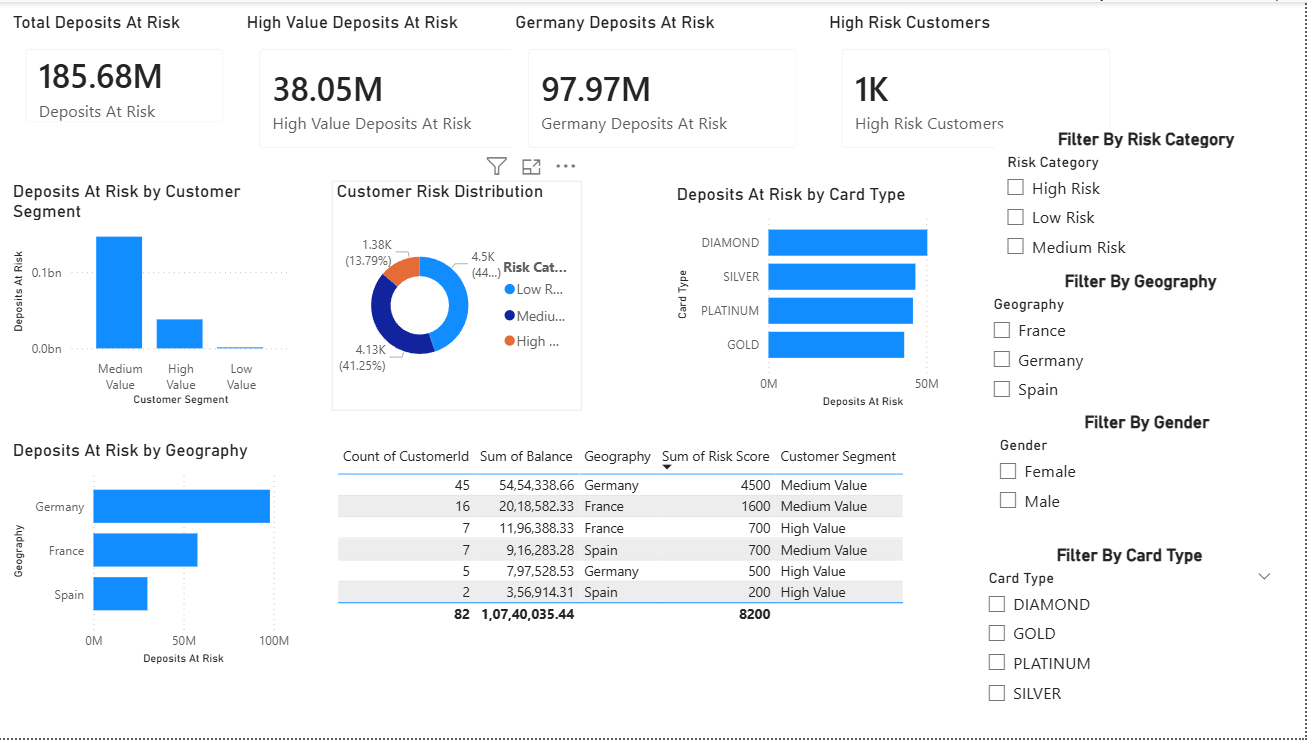

The page's visual inventory and layout, read from the dashboard file:
{"tool":"powerbi","page":{"name":"Revenue Risk Analysis","canvas":[1280,720],"ordinal":1},"visuals":[{"type":"cardVisual","title":"Total Deposits At Risk","fields":{"Data":["Customer-Churn-Records.Deposits At Risk"]},"box":[9.9,9.9,228.7,125.5],"z":0},{"type":"cardVisual","title":"High Value Deposits At Risk","fields":{"Data":["Customer-Churn-Records.High Value Deposits At Risk"]},"box":[238.6,9.9,295.8,150.4],"z":1},{"type":"cardVisual","title":"Germany Deposits At Risk","fields":{"Data":["Customer-Churn-Records.Germany Deposits At Risk"]},"box":[500.9,9.9,297.1,150.4],"z":2},{"type":"cardVisual","title":"High Risk Customers","fields":{"Data":["Customer-Churn-Records.High Risk Customers"]},"box":[807.9,9.9,297.1,150.4],"z":3},{"type":"clusteredColumnChart","fields":{"Category":["Customer-Churn-Records.Customer Segment"],"Y":["Customer-Churn-Records.Deposits At Risk"]},"box":[9.9,175.3,280.9,225],"z":4},{"type":"clusteredBarChart","fields":{"Category":["Customer-Churn-Records.Geography"],"Y":["Customer-Churn-Records.Deposits At Risk"]},"box":[10,427.5,281,225],"z":5},{"type":"donutChart","title":"Customer Risk Distribution","fields":{"Category":["Customer-Churn-Records.Risk Category"],"Y":["CountNonNull(Customer-Churn-Records.CustomerId)"]},"box":[326.9,175.3,243.6,225],"z":6},{"type":"tableEx","fields":{"Values":["CountNonNull(Customer-Churn-Records.CustomerId)","Sum(Customer-Churn-Records.Balance)","Customer-Churn-Records.Geography","Sum(Customer-Churn-Records.Risk Score)","Customer-Churn-Records.Customer Segment"]},"box":[326.9,427.6,585.4,254.8],"z":7},{"type":"barChart","fields":{"Category":["Customer-Churn-Records.Card Type"],"Y":["Customer-Churn-Records.Deposits At Risk"]},"box":[659.5,176.7,297.1,224.3],"z":8},{"type":"slicer","title":"Filter By Risk Category","fields":{"Values":["Customer-Churn-Records.Risk Category"]},"box":[974.6,123.5,297.1,139.4],"z":9},{"type":"slicer","title":"Filter By Geography","fields":{"Values":["Customer-Churn-Records.Geography"]},"box":[961,262.9,313.4,150],"z":10},{"type":"slicer","title":"Filter By Gender","fields":{"Values":["Customer-Churn-Records.Gender"]},"box":[966.9,401,313.4,166.4],"z":11},{"type":"slicer","title":"Filter By Card Type","fields":{"Values":["Customer-Churn-Records.Card Type"]},"box":[956.5,530.2,301.5,167.8],"z":12}]}

Visuals, with their boxes in screenshot pixels (x1, y1, x2, y2), scaled from the page's 1280x720 canvas onto the 1307x741 screenshot:
"Total Deposits At Risk" cardVisual: [x1=10, y1=10, x2=244, y2=139]
"High Value Deposits At Risk" cardVisual: [x1=244, y1=10, x2=546, y2=165]
"Germany Deposits At Risk" cardVisual: [x1=511, y1=10, x2=815, y2=165]
"High Risk Customers" cardVisual: [x1=825, y1=10, x2=1128, y2=165]
clusteredColumnChart - Customer-Churn-Records.Customer Segment x Customer-Churn-Records.Deposits At Risk: [x1=10, y1=180, x2=297, y2=412]
clusteredBarChart - Customer-Churn-Records.Geography x Customer-Churn-Records.Deposits At Risk: [x1=10, y1=440, x2=297, y2=672]
"Customer Risk Distribution" donutChart: [x1=334, y1=180, x2=583, y2=412]
tableEx - CountNonNull(Customer-Churn-Records.CustomerId) x Sum(Customer-Churn-Records.Balance): [x1=334, y1=440, x2=932, y2=702]
barChart - Customer-Churn-Records.Card Type x Customer-Churn-Records.Deposits At Risk: [x1=673, y1=182, x2=977, y2=413]
"Filter By Risk Category" slicer: [x1=995, y1=127, x2=1299, y2=271]
"Filter By Geography" slicer: [x1=981, y1=271, x2=1301, y2=425]
"Filter By Gender" slicer: [x1=987, y1=413, x2=1306, y2=584]
"Filter By Card Type" slicer: [x1=977, y1=546, x2=1285, y2=718]
